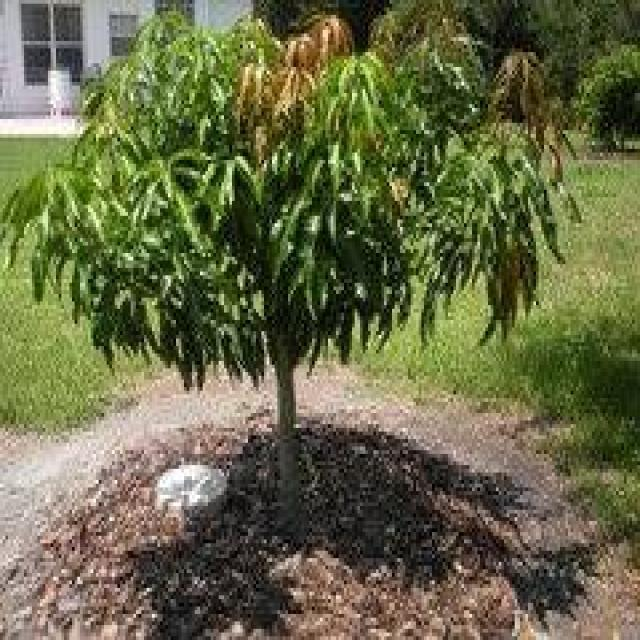Tree: (50, 32, 534, 519)
